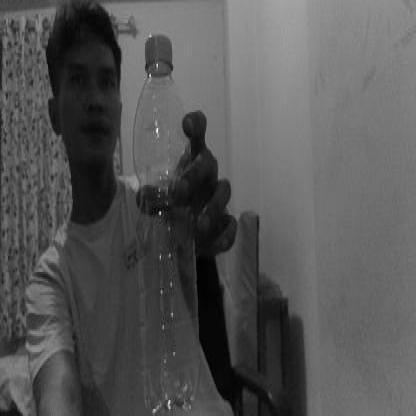plastic_bottles: (133, 30, 205, 411)
